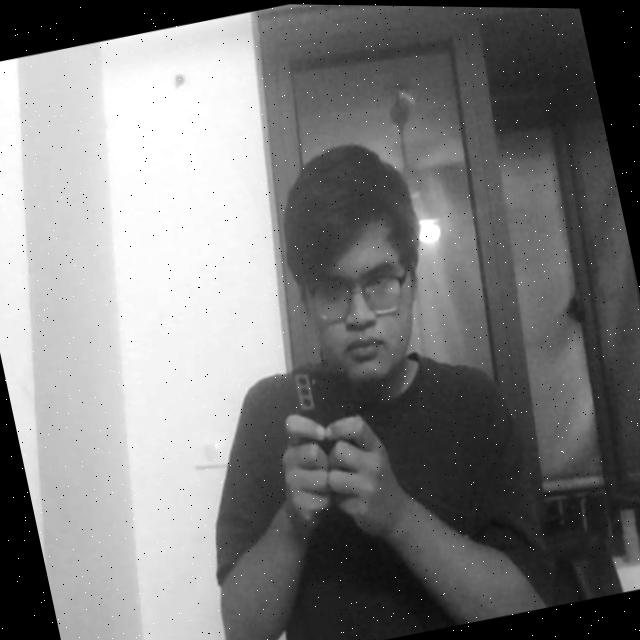phone: (268, 343, 388, 506)
